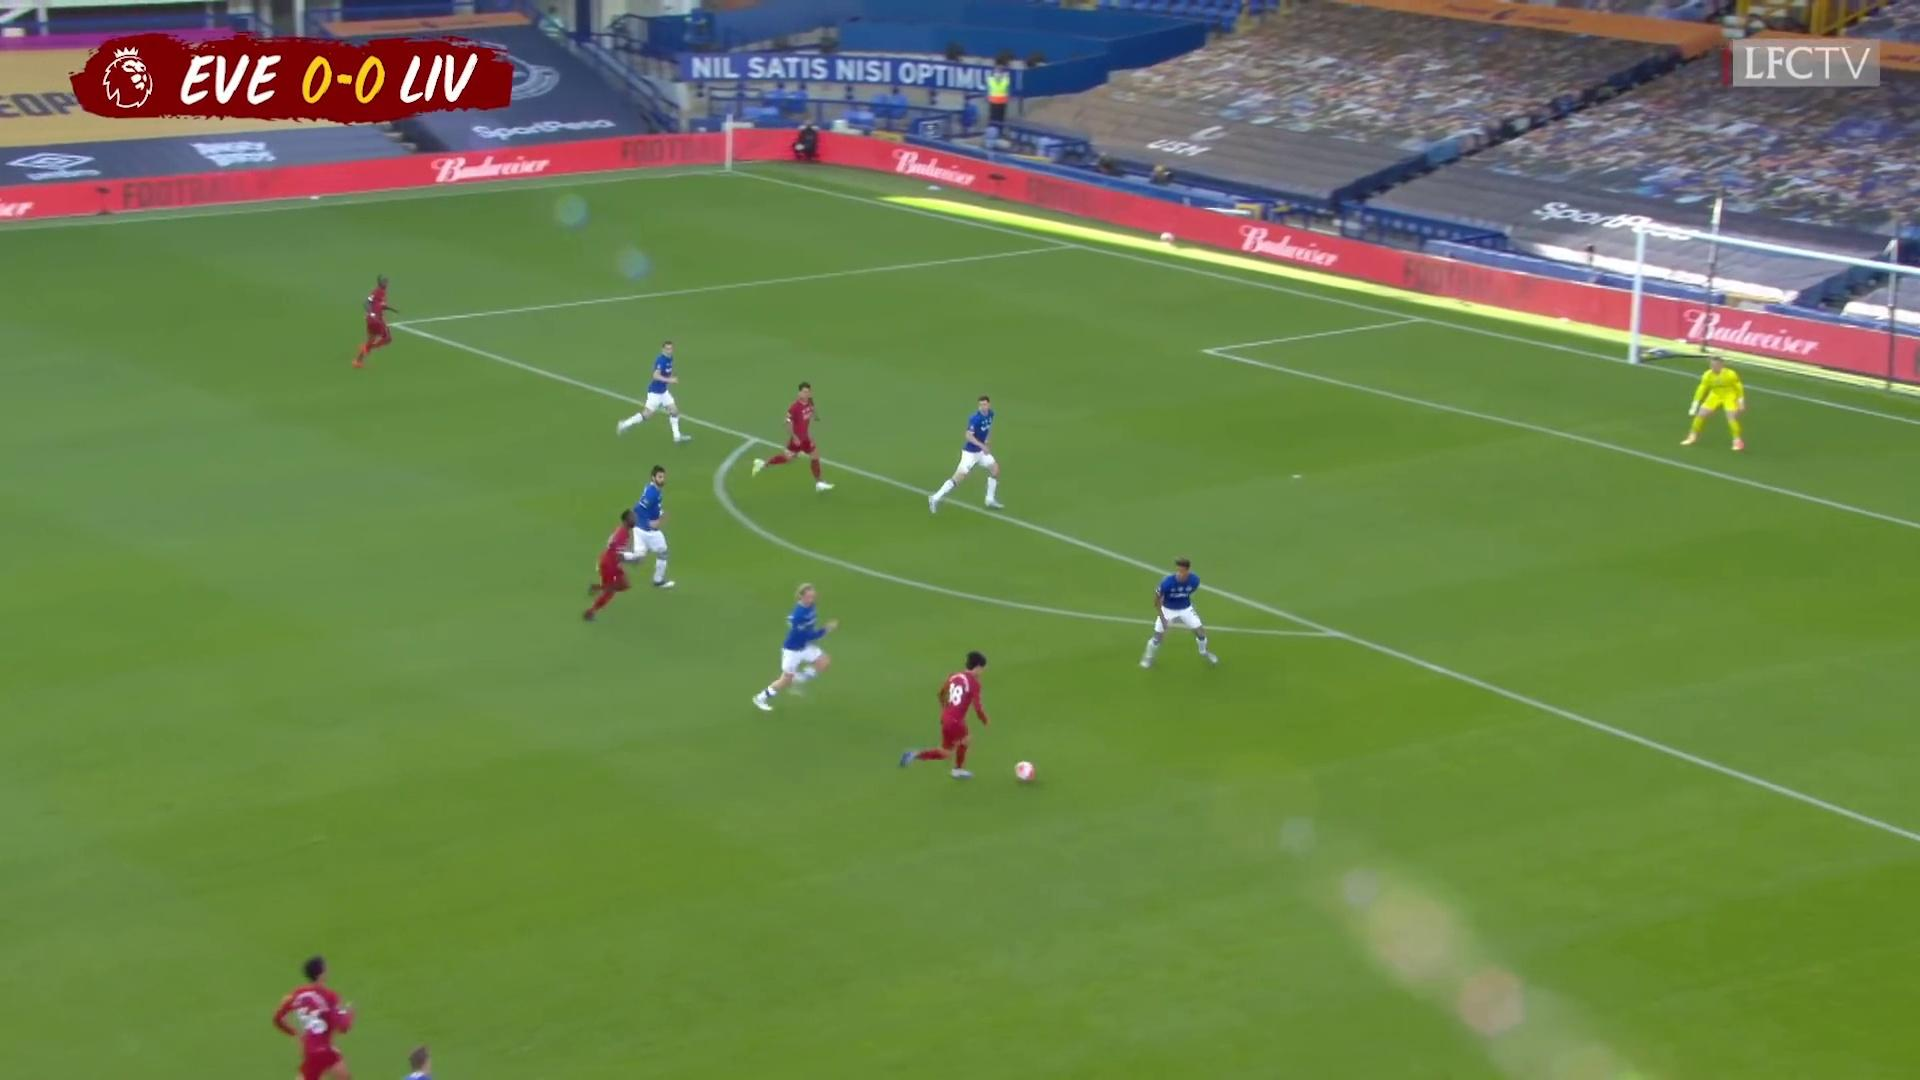ball: (1159, 225, 1187, 253), (1012, 758, 1037, 786)
goalkeeper: (1677, 352, 1752, 454)
player: (265, 946, 375, 1076), (897, 645, 993, 785), (748, 581, 839, 719), (925, 390, 1009, 518), (751, 377, 839, 496), (1140, 557, 1224, 675), (614, 337, 694, 450), (616, 460, 682, 589), (579, 507, 644, 630), (350, 271, 403, 371), (386, 1040, 466, 1080)
